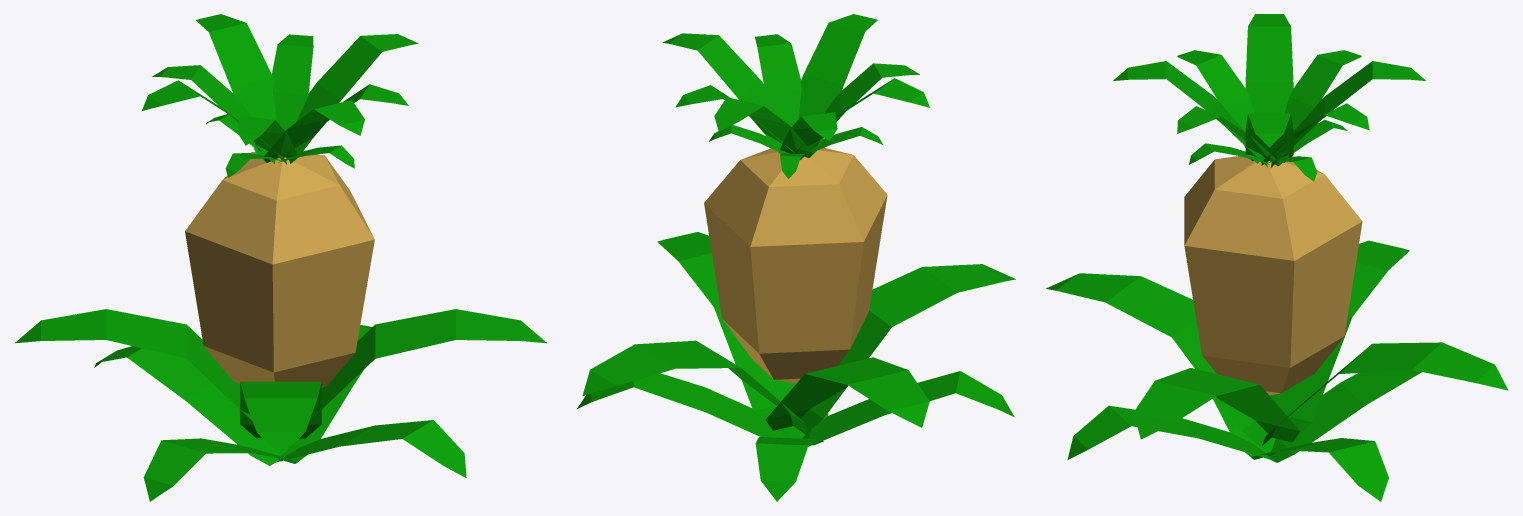
File: Abacaxi.fbx
3 views of the same model, side by side, from view 1: azimuth 30°, elevation 25°; view 2: azimuth 150°, elevation 25°; view 3: azimuth 270°, elevation 25° (orthographic). The views are drawn at different scales.
Visible parts, largest first — view 1: fruto, ramo, coroa; view 2: fruto, ramo, coroa; view 3: fruto, ramo, coroa.
Boxes of the visible parts, x1,y1,x2,y2 form: fruto: [185, 152, 374, 387]; ramo: [15, 309, 546, 501]; coroa: [142, 14, 418, 177]; fruto: [704, 147, 887, 383]; ramo: [577, 232, 1015, 501]; coroa: [662, 14, 929, 178]; fruto: [1184, 156, 1362, 395]; ramo: [1046, 240, 1508, 501]; coroa: [1113, 14, 1425, 181].
Bounding box in the file's own units: 94.44 × 88.84 × 96.63.
